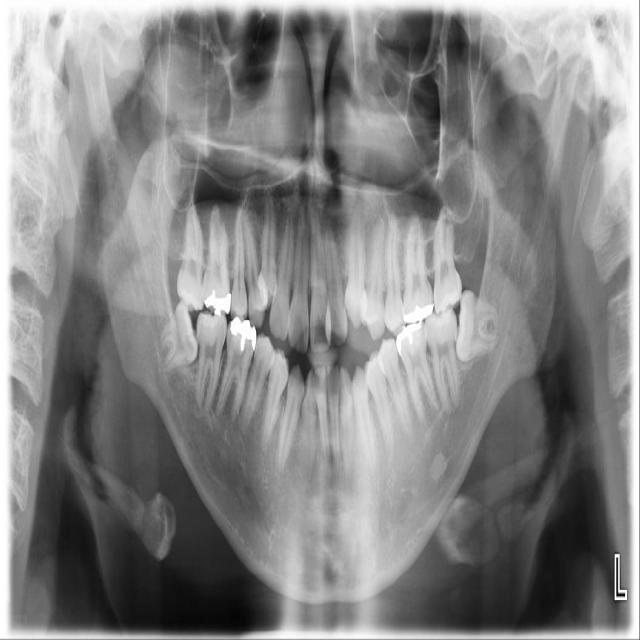Filling: (230, 316, 256, 352), (396, 323, 421, 356), (204, 289, 231, 316), (403, 304, 434, 322)
impacted tooth: (454, 290, 499, 364), (158, 302, 199, 375)
